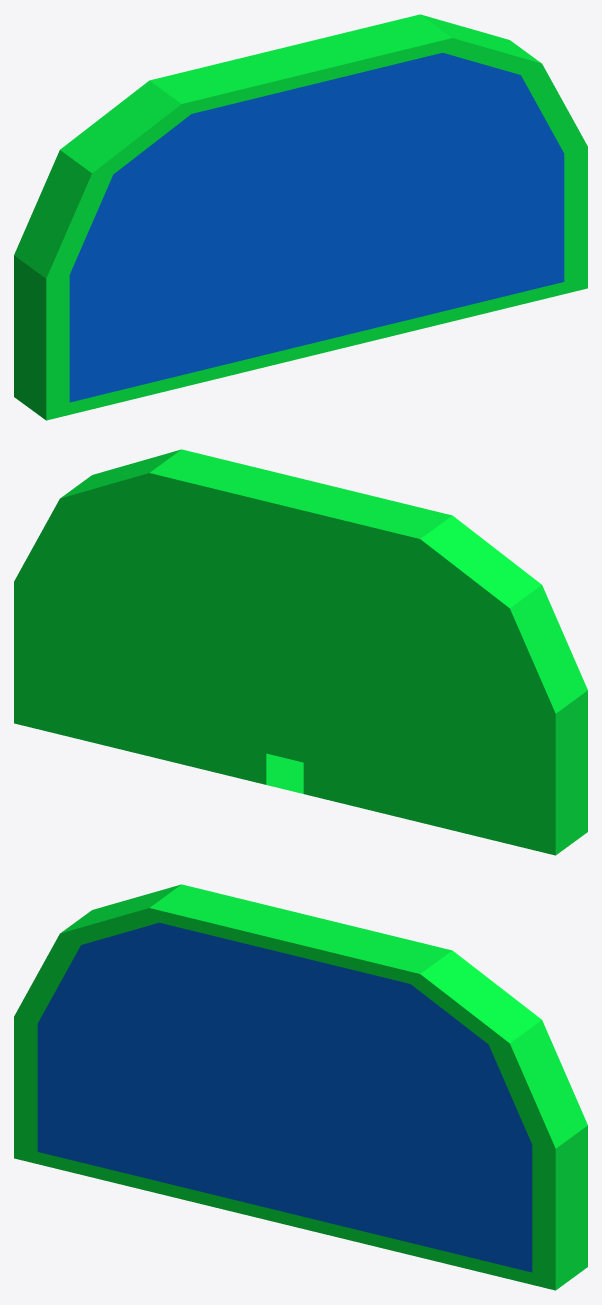
The model's file is Goleiro Tipo 1.fbx.
3 renders of one model, top to bottom at view 1: azimuth 30°, elevation 25°; view 2: azimuth 150°, elevation 25°; view 3: azimuth 330°, elevation 25°, orthographic.
Parts seen in each view (by area): view 1: Goleiro_1; view 2: Goleiro_1; view 3: Goleiro_1.
Boxes of the visible parts, x1=… form: Goleiro_1: x1=14, y1=14, x2=587, y2=420; Goleiro_1: x1=14, y1=449, x2=587, y2=855; Goleiro_1: x1=14, y1=884, x2=587, y2=1290.
Size of the model in its own units: 500 by 250 by 51.57.
